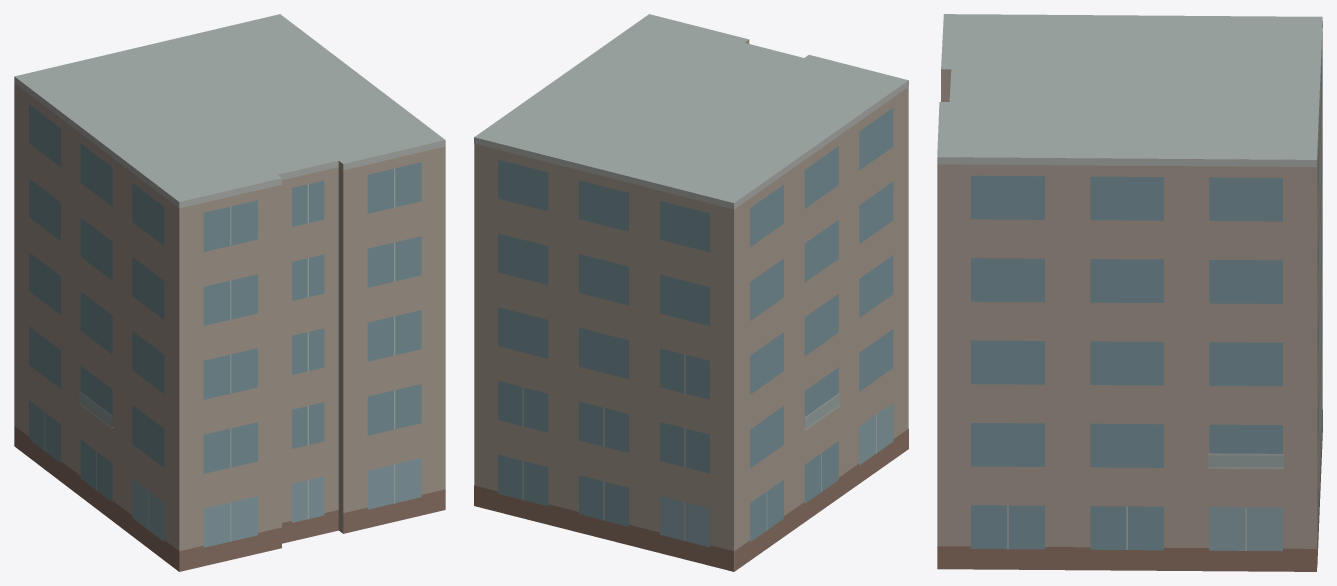
The model's file is survey-upis-32920376.glb.
3 renders of one model, left to right at view 1: azimuth 30°, elevation 25°; view 2: azimuth 150°, elevation 25°; view 3: azimuth 270°, elevation 25°, orthographic. The views are drawn at different scales.
Visible parts, largest first — view 1: survey-upis-32920376.tmp; view 2: survey-upis-32920376.tmp; view 3: survey-upis-32920376.tmp.
Part boxes in pixels (x1,y1,x2,y2): survey-upis-32920376.tmp: (14, 14, 445, 571); survey-upis-32920376.tmp: (474, 14, 908, 571); survey-upis-32920376.tmp: (937, 14, 1322, 571).
Size of the model in its own units: 10.74 by 14.1 by 11.97.
